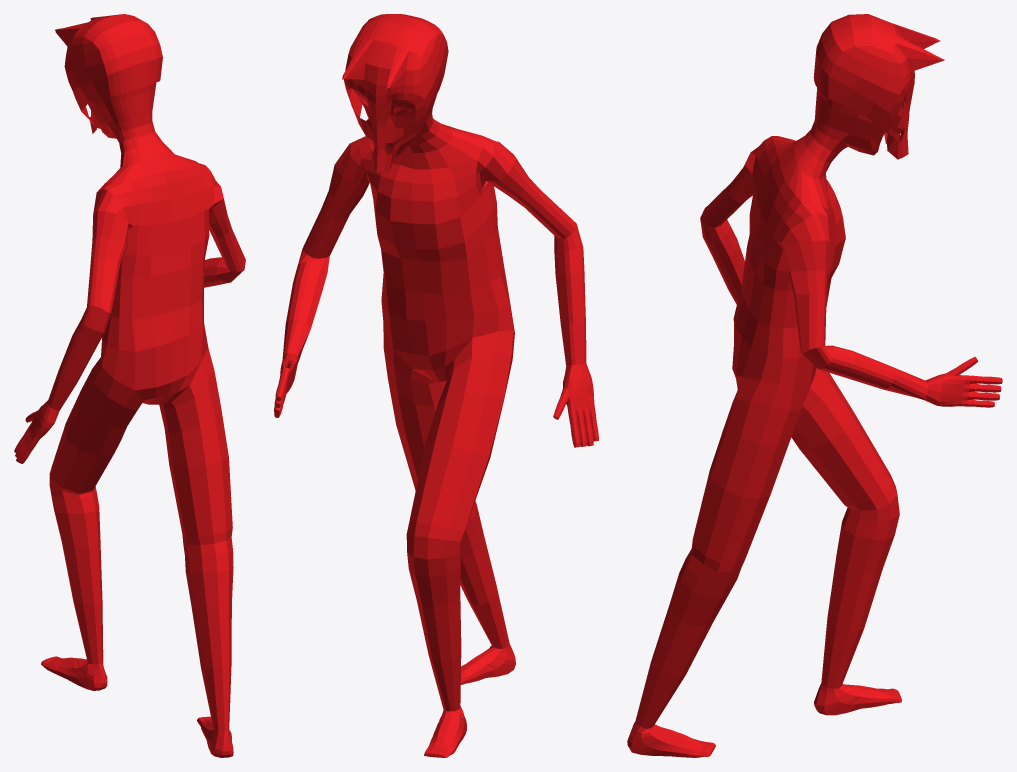
File: marchaE_000035.obj
The picture shows the model from 3 angles, left to right: view 1: azimuth 30°, elevation 25°; view 2: azimuth 150°, elevation 25°; view 3: azimuth 270°, elevation 25°; orthographic projection. The views are drawn at different scales.
Parts seen in each view (by area): view 1: Plane.002_Plane.001; view 2: Plane.002_Plane.001; view 3: Plane.002_Plane.001.
Boxes of the visible parts, x1,y1,x2,y2 form: Plane.002_Plane.001: (14,14,245,757); Plane.002_Plane.001: (274,14,598,757); Plane.002_Plane.001: (627,14,1002,757).
Bounding box in the file's own units: 2.63 × 6.81 × 3.18.
